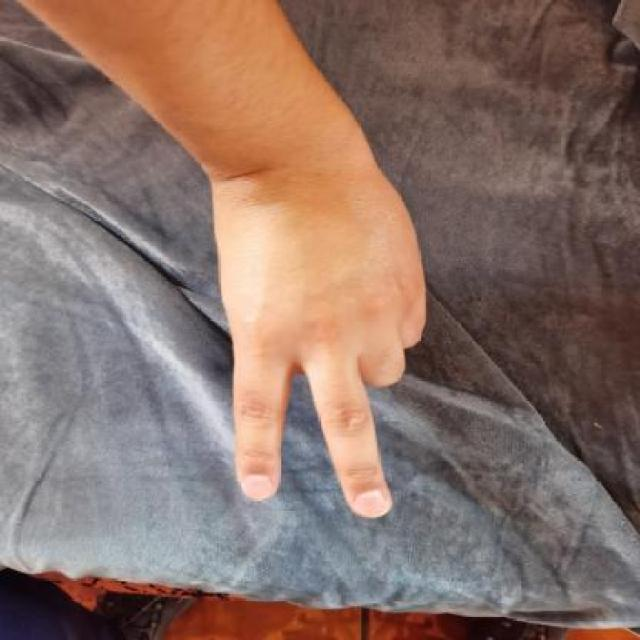N: (175, 158, 463, 538)
